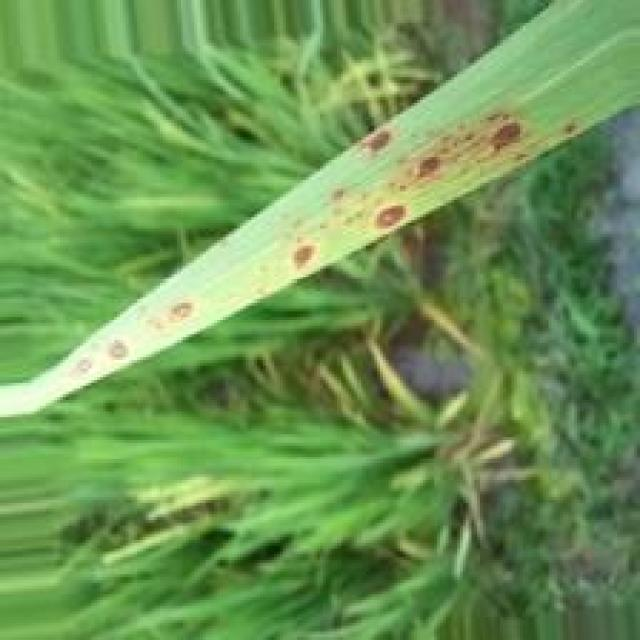Brown_Spot: (486, 119, 530, 151), (412, 150, 450, 185), (371, 201, 412, 232), (363, 124, 398, 160), (291, 239, 324, 274), (164, 297, 200, 325), (106, 338, 132, 361), (562, 123, 582, 140), (331, 184, 346, 205)
